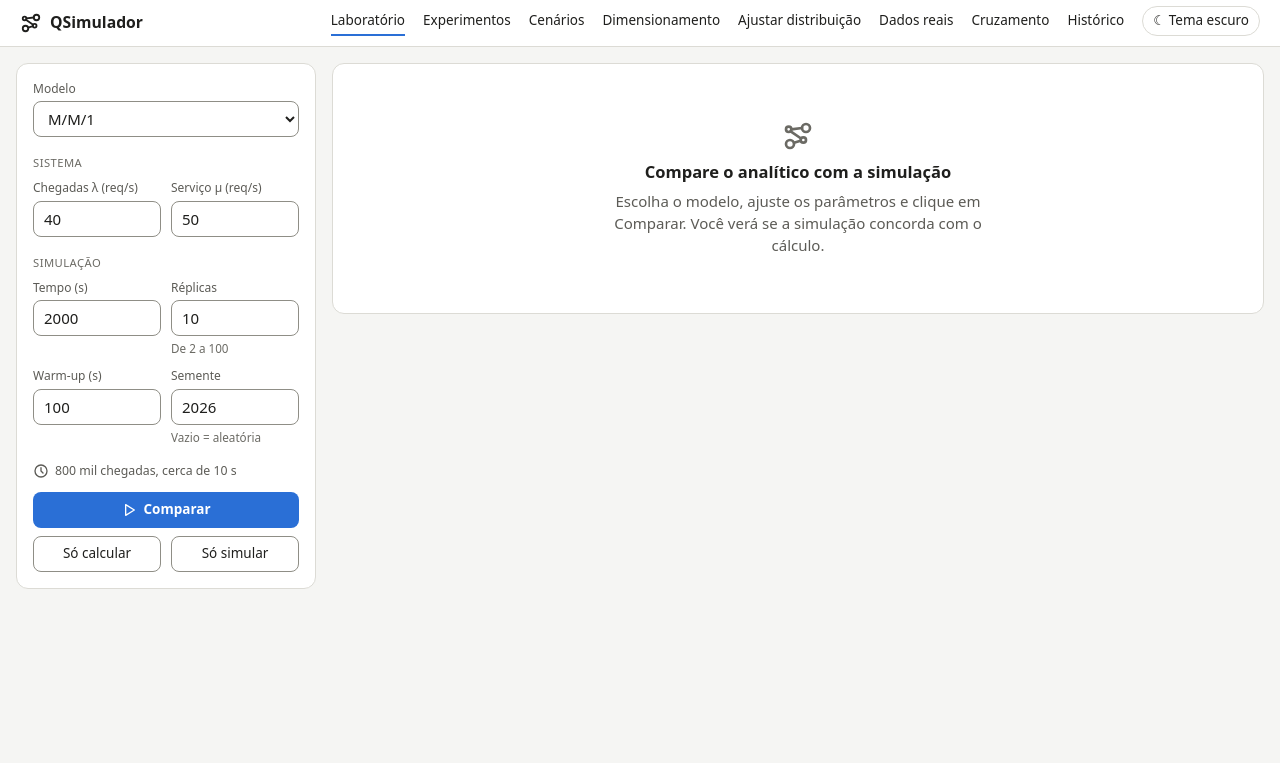
Test: formulário com 2 a 4 fases e classes › adiciona e remove fases (uma aproximação por fase), entre 2 e 4
Click the button "Cruzamento" at x=1010, y=23, box [971,10,1049,36]
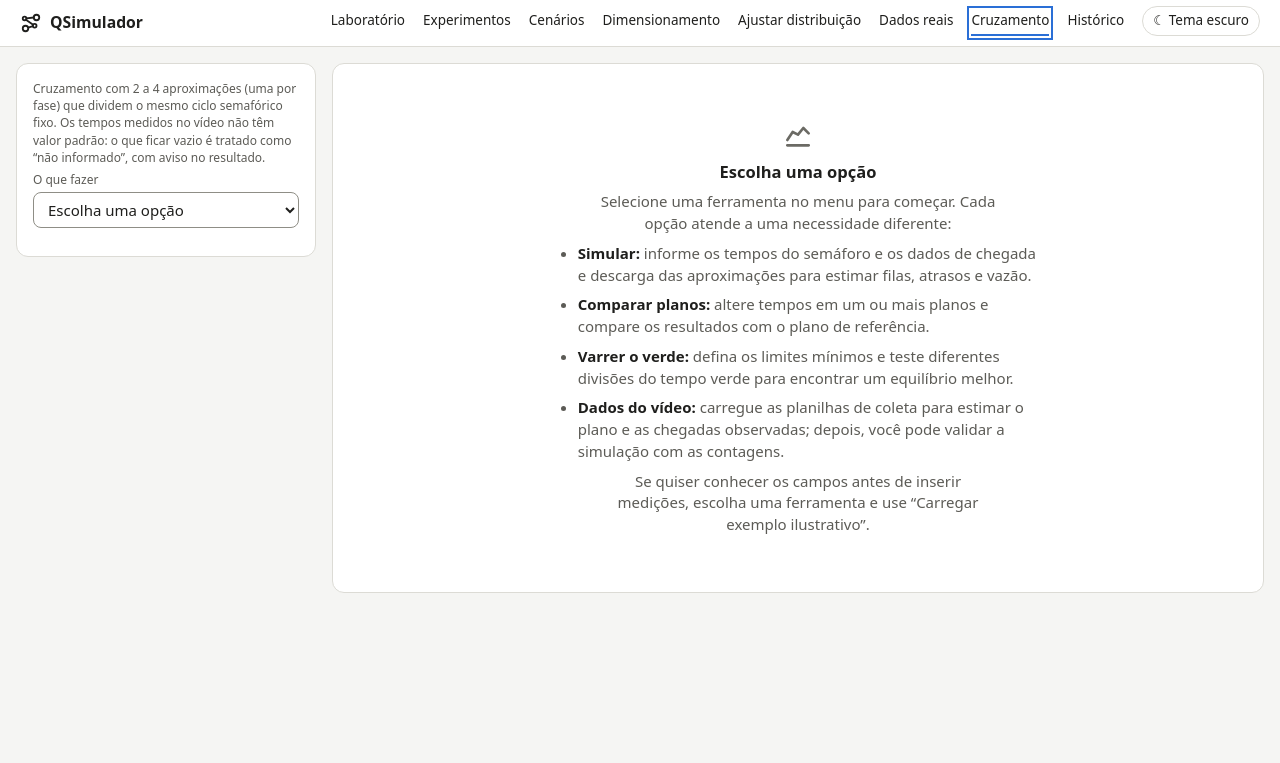
Select "Simular" in the dropdown labelled "O que fazer" at x=166, y=210, box [33,192,299,228]
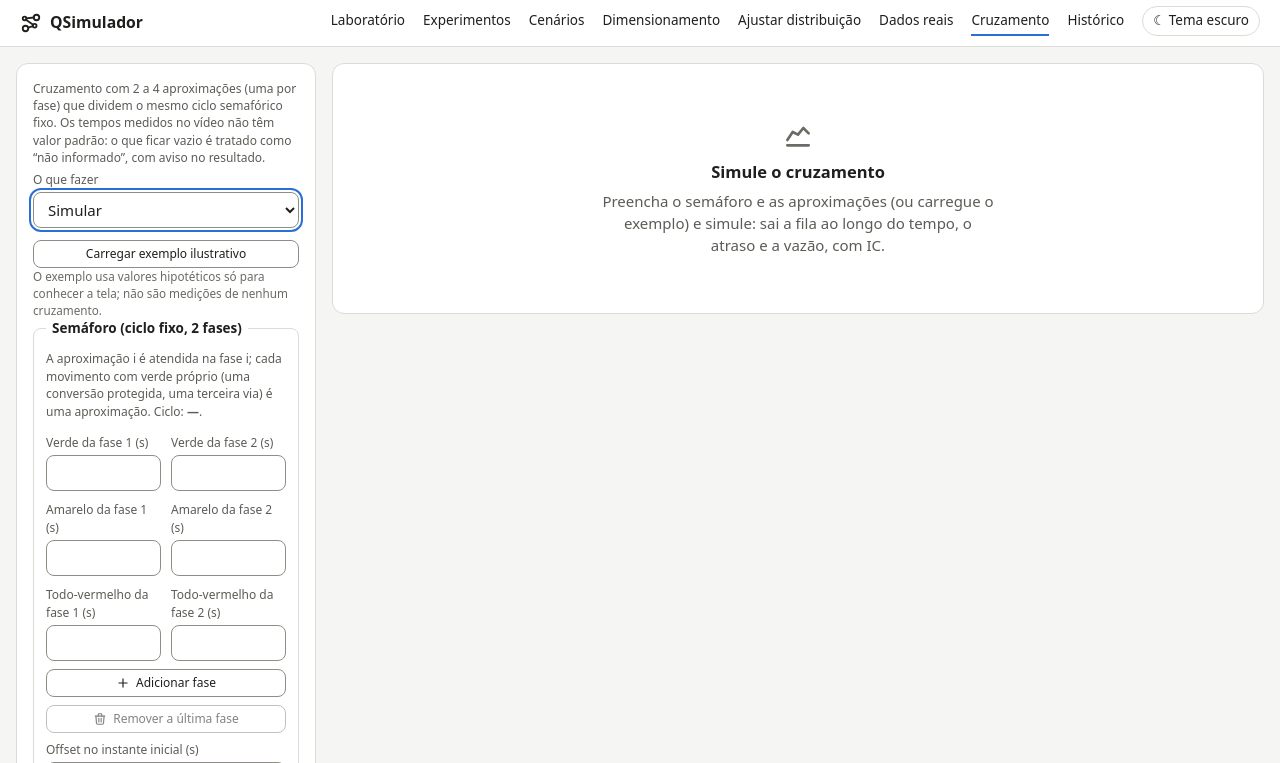
Expected: the field labelled "Verde da fase 3 (s)" is not shown
Expected: the button "Remover a última fase" is disabled, [46,705,286,733]
Click the button "Adicionar fase" at x=166, y=683, box [46,669,286,697]
(page scrolled)
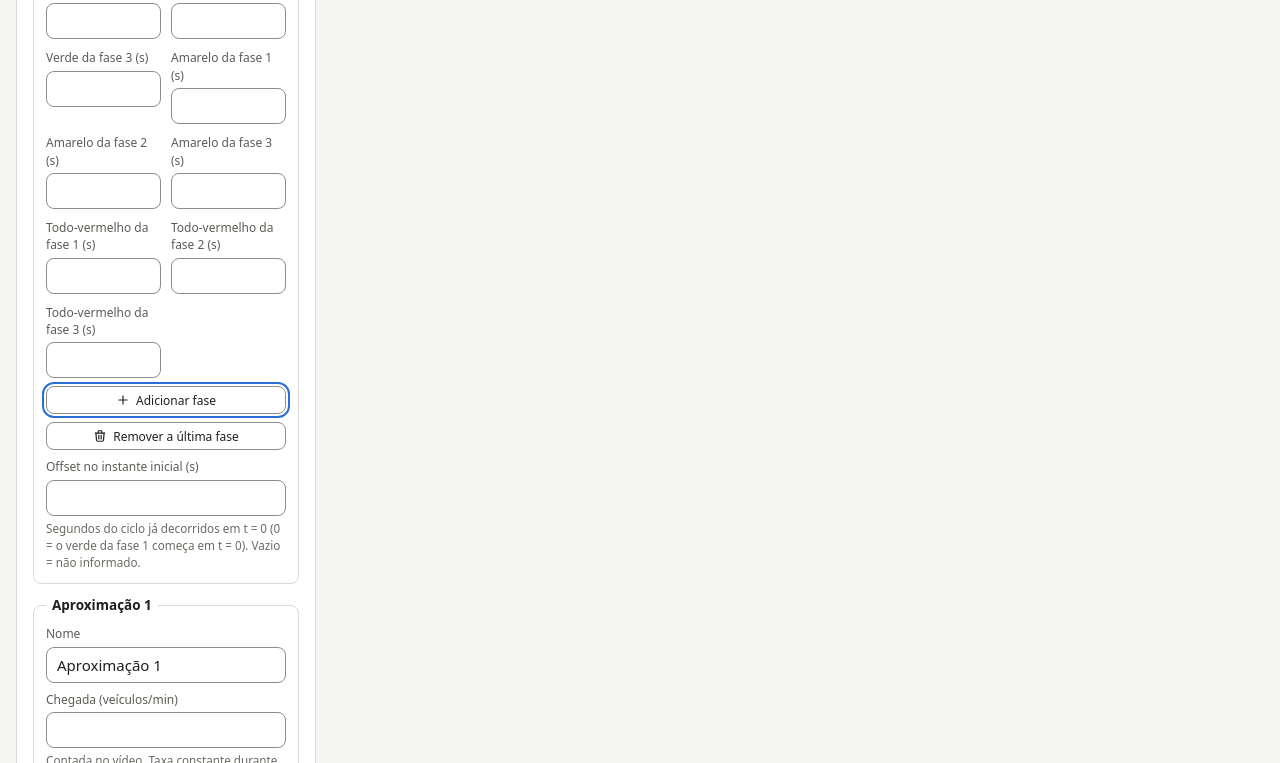
Expected: the field labelled "Verde da fase 3 (s)" is shown, [46,71,161,107]
Click the button "Adicionar fase" at x=166, y=400, box [46,386,286,414]
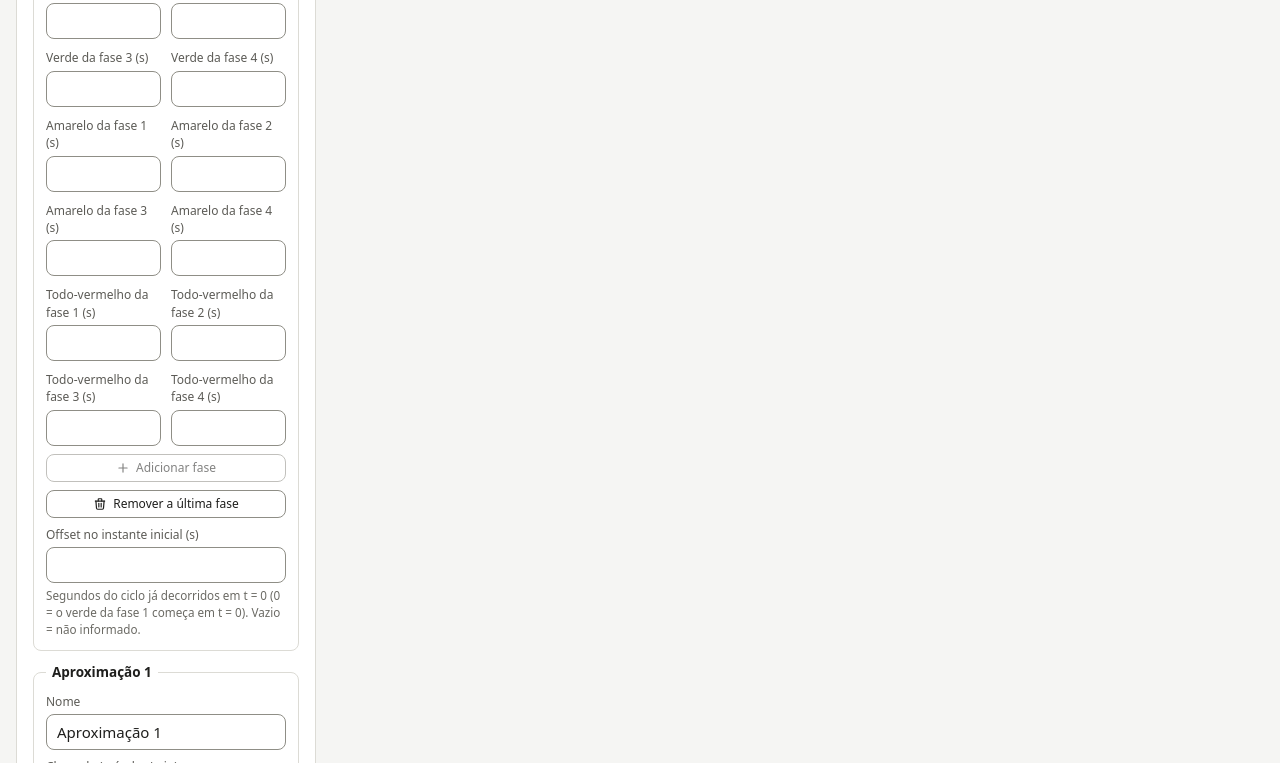
Expected: the field labelled "Verde da fase 4 (s)" is shown, [171,71,286,107]
Expected: the button "Adicionar fase" is disabled, [46,454,286,482]
Click the button "Remover a última fase" at x=166, y=504, box [46,490,286,518]
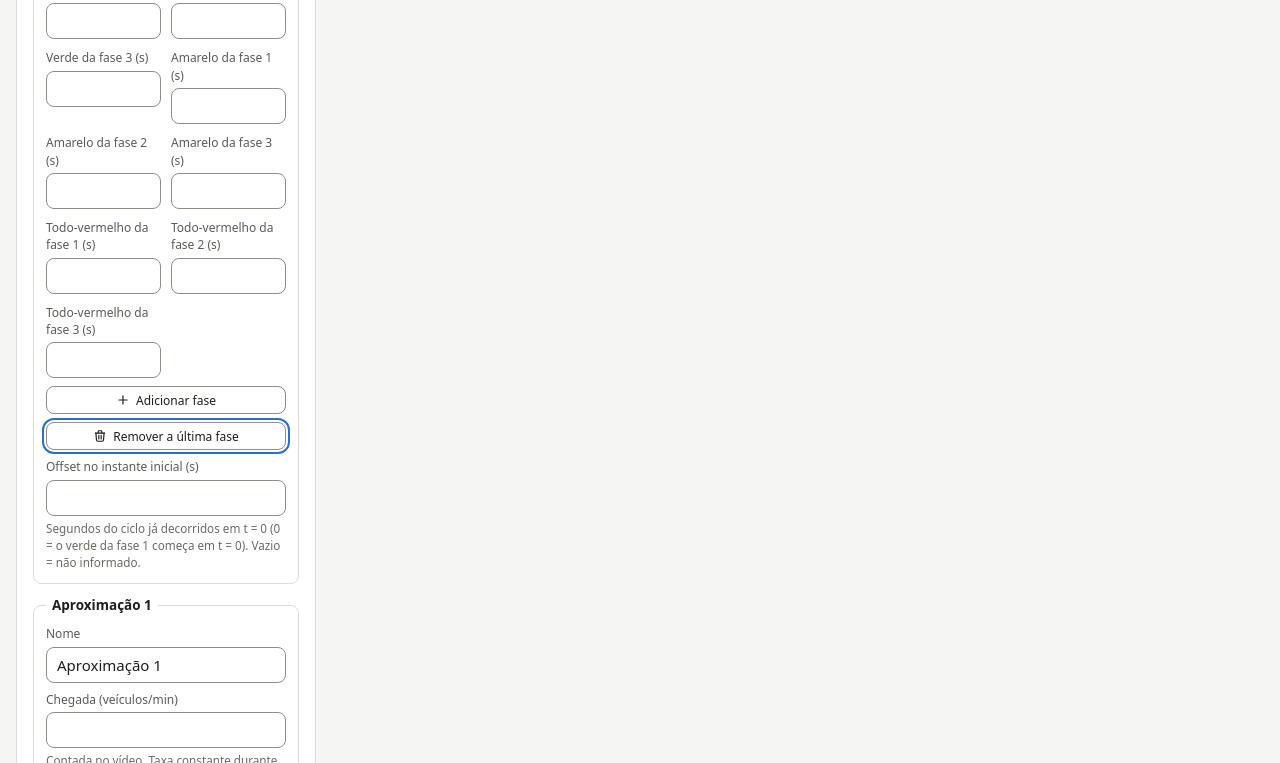
Expected: the label labelled "Verde da fase 4 (s)" is gone
